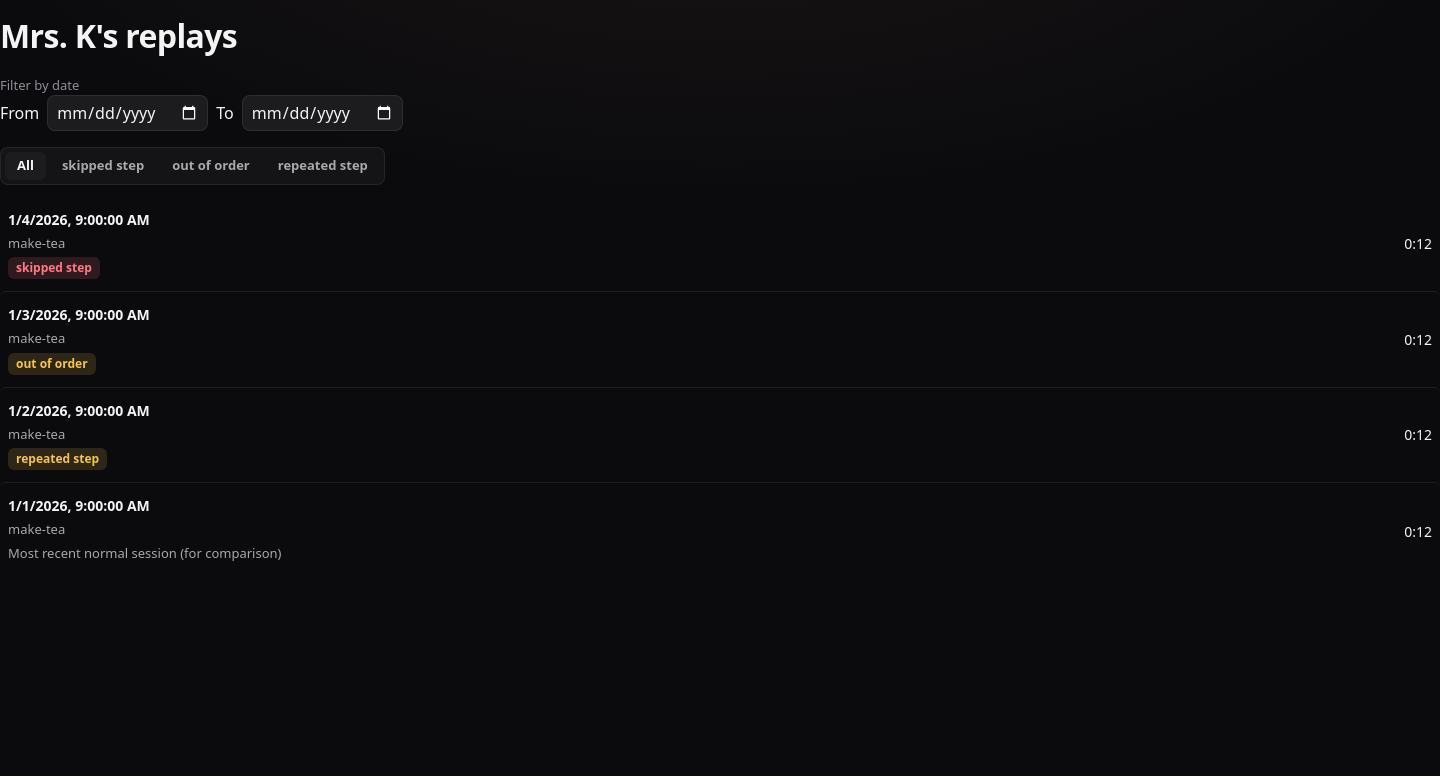
Test: Replays › lets a supervisor add a note, shown with their name and the time
Click the button "1/4/2026, 9:00:00 AM make-tea skipped step 0:12" at (79, 219), box [0,196,1439,291]
(page scrolled)
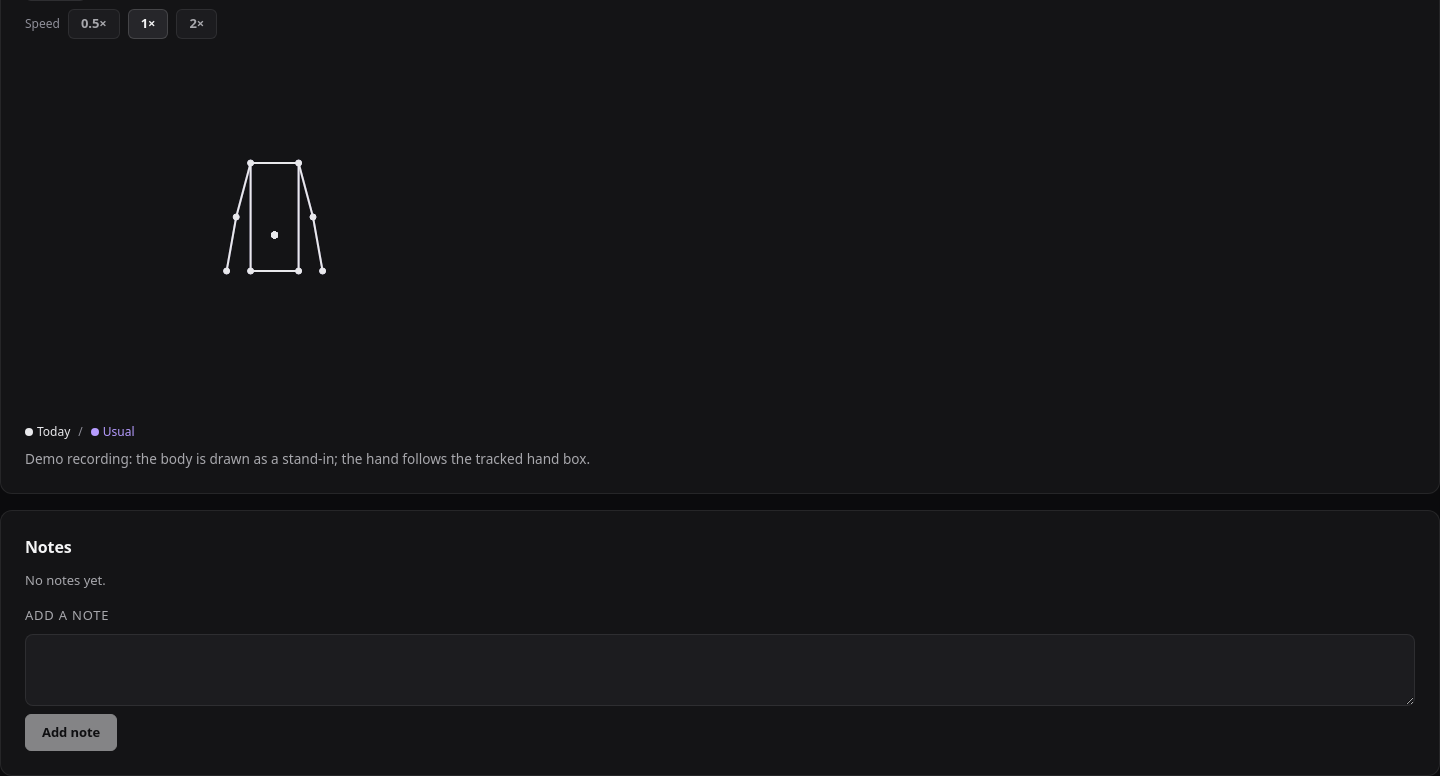
Type "Took longer than usual" into the text box labelled "Add a note" at (720, 670), box [25,634,1415,706]
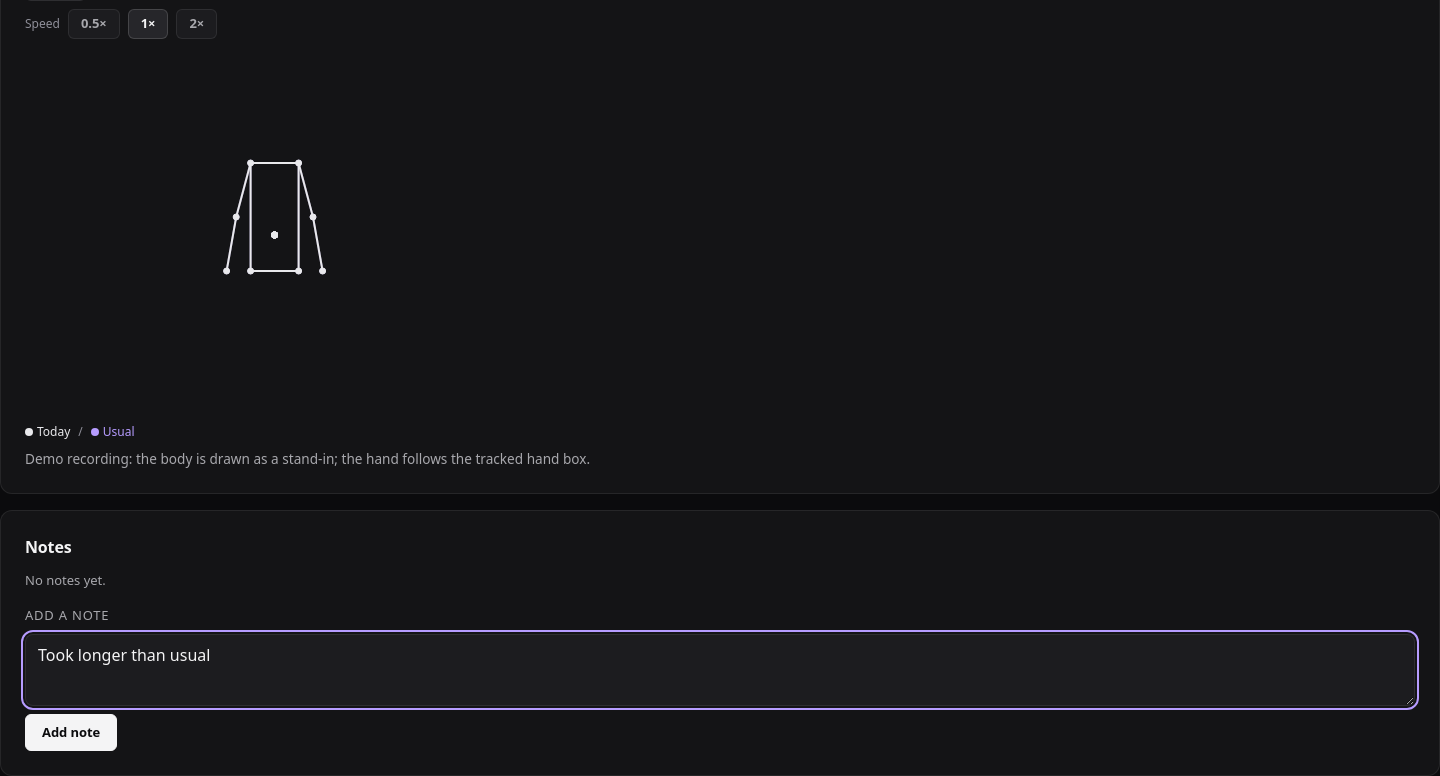
Click the button "Add note" at (71, 733), box [25,714,117,751]
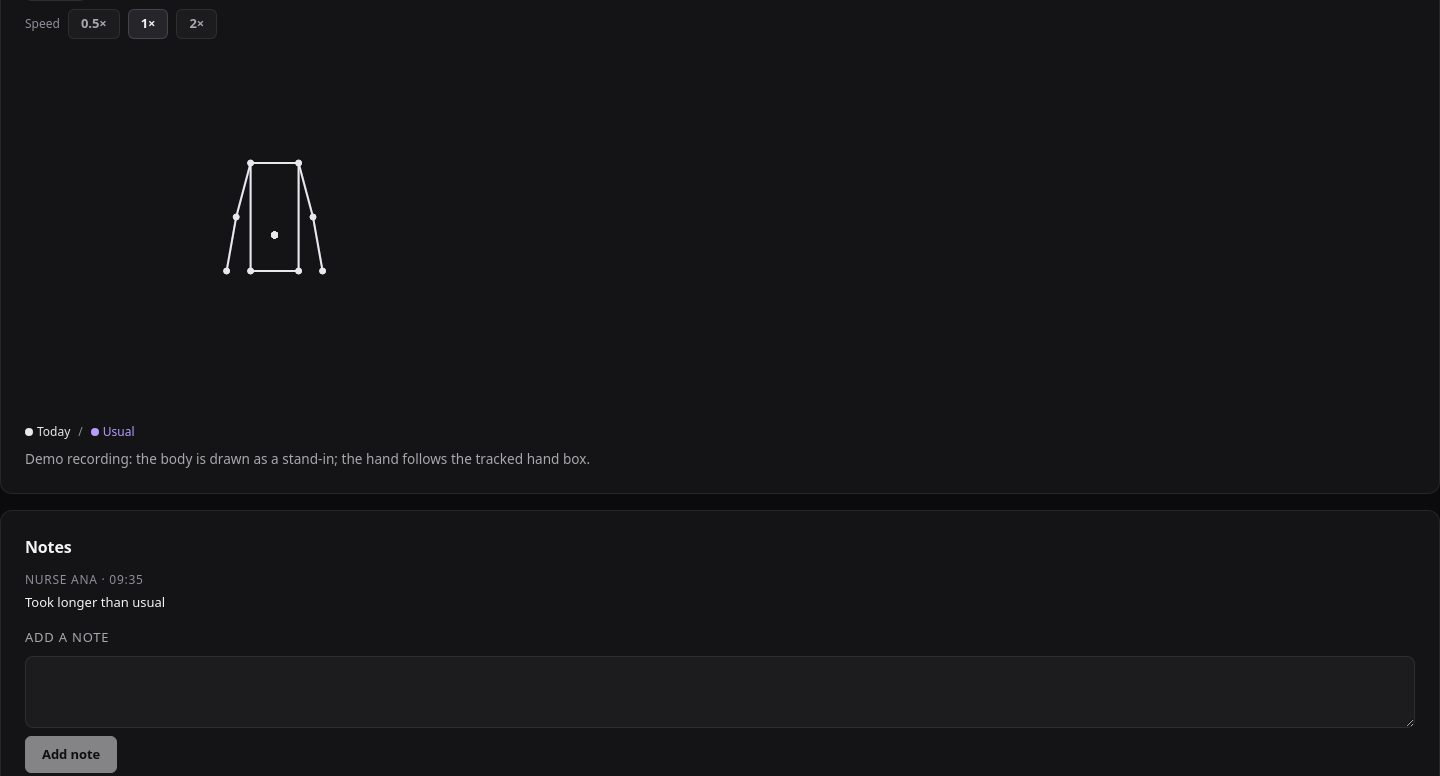
Now the text "Took longer than usual" is shown, box [25,593,165,611]
Now the text "Nurse Ana · 09:35" is shown, box [25,571,144,588]
